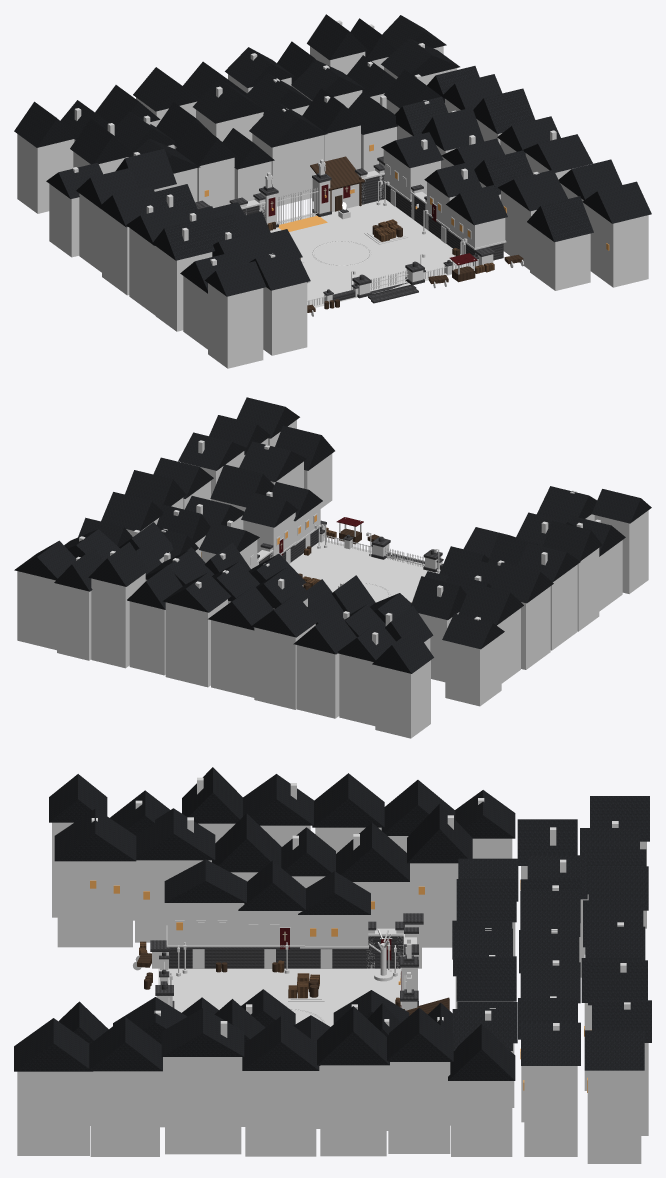
Rendered from town_gateyard_01.fbx.
3 renders of one model, top to bottom at view 1: azimuth 30°, elevation 25°; view 2: azimuth 150°, elevation 25°; view 3: azimuth 270°, elevation 25°, orthographic. The views are drawn at different scales.
Visible parts, largest first — view 1: _MeshInstance3D_495, _MeshInstance3D_816, _MeshInstance3D_906, _MeshInstance3D_885, _MeshInstance3D_788, _MeshInstance3D_591, _MeshInstance3D_541, _MeshInstance3D_808, _MeshInstance3D_886, _MeshInstance3D_542, _MeshInstance3D_800, _MeshInstance3D_804 (+68 smaller); view 2: _MeshInstance3D_495, _MeshInstance3D_591, _MeshInstance3D_605, _MeshInstance3D_611, _MeshInstance3D_793, _MeshInstance3D_600, _MeshInstance3D_602, _MeshInstance3D_597, _MeshInstance3D_619, _MeshInstance3D_608, _MeshInstance3D_615, _MeshInstance3D_593 (+62 smaller); view 3: _MeshInstance3D_899, _MeshInstance3D_495, _MeshInstance3D_788, _MeshInstance3D_906, _MeshInstance3D_895, _MeshInstance3D_891, _MeshInstance3D_903, _MeshInstance3D_889, _MeshInstance3D_619, _MeshInstance3D_587, _MeshInstance3D_887, _MeshInstance3D_766 (+66 smaller).
Boxes of the visible parts, bbox=[...] form: _MeshInstance3D_495: bbox=[270, 199, 473, 307]; _MeshInstance3D_816: bbox=[208, 283, 263, 368]; _MeshInstance3D_906: bbox=[585, 204, 648, 287]; _MeshInstance3D_885: bbox=[530, 224, 590, 290]; _MeshInstance3D_788: bbox=[263, 282, 307, 355]; _MeshInstance3D_591: bbox=[17, 134, 74, 213]; _MeshInstance3D_541: bbox=[252, 134, 324, 206]; _MeshInstance3D_808: bbox=[155, 246, 212, 331]; _MeshInstance3D_886: bbox=[527, 196, 593, 242]; _MeshInstance3D_542: bbox=[249, 102, 326, 147]; _MeshInstance3D_800: bbox=[102, 210, 129, 295]; _MeshInstance3D_804: bbox=[129, 228, 155, 315]; _MeshInstance3D_495: bbox=[289, 540, 439, 602]; _MeshInstance3D_591: bbox=[375, 660, 430, 738]; _MeshInstance3D_605: bbox=[165, 599, 227, 687]; _MeshInstance3D_611: bbox=[91, 573, 145, 668]; _MeshInstance3D_793: bbox=[445, 634, 501, 706]; _MeshInstance3D_600: bbox=[254, 624, 315, 709]; _MeshInstance3D_602: bbox=[211, 620, 254, 697]; _MeshInstance3D_597: bbox=[296, 645, 339, 718]; _MeshInstance3D_619: bbox=[17, 571, 56, 650]; _MeshInstance3D_608: bbox=[129, 601, 165, 675]; _MeshInstance3D_615: bbox=[57, 583, 91, 660]; _MeshInstance3D_593: bbox=[339, 654, 375, 725]; _MeshInstance3D_899: bbox=[165, 1057, 241, 1154]; _MeshInstance3D_495: bbox=[158, 968, 400, 1026]; _MeshInstance3D_788: bbox=[57, 861, 132, 947]; _MeshInstance3D_906: bbox=[17, 1071, 89, 1155]; _MeshInstance3D_895: bbox=[245, 1071, 316, 1156]; _MeshInstance3D_891: bbox=[320, 1065, 386, 1156]; _MeshInstance3D_903: bbox=[90, 1071, 159, 1156]; _MeshInstance3D_889: bbox=[388, 1062, 450, 1153]; _MeshInstance3D_619: bbox=[587, 1070, 641, 1163]; _MeshInstance3D_587: bbox=[524, 1066, 577, 1156]; _MeshInstance3D_887: bbox=[451, 1081, 512, 1156]; _MeshInstance3D_766: bbox=[410, 863, 458, 947].
Size of what is drawn, in the model's own units: 6037 by 1532 by 5948.
17 materials, 5 textured.
